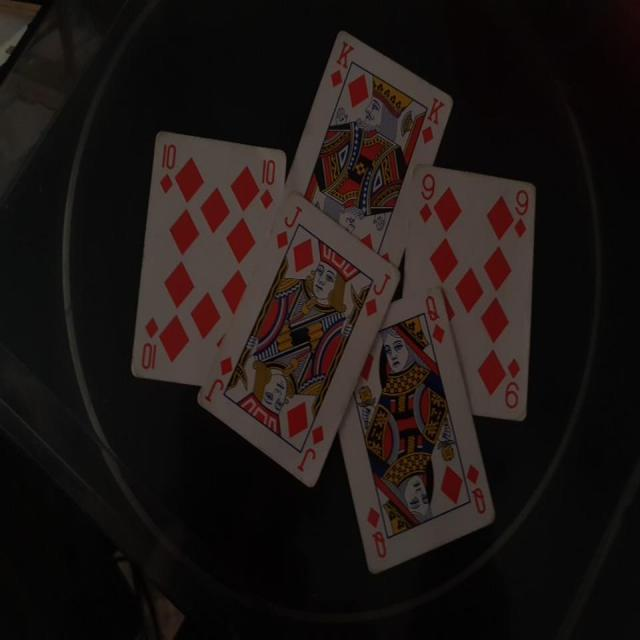10 Diamonds: (130, 128, 288, 383)
9 Diamonds: (402, 162, 538, 421)
J Diamonds: (196, 191, 402, 490)
K Diamonds: (288, 30, 456, 264)
Q Diamonds: (337, 285, 496, 575)
